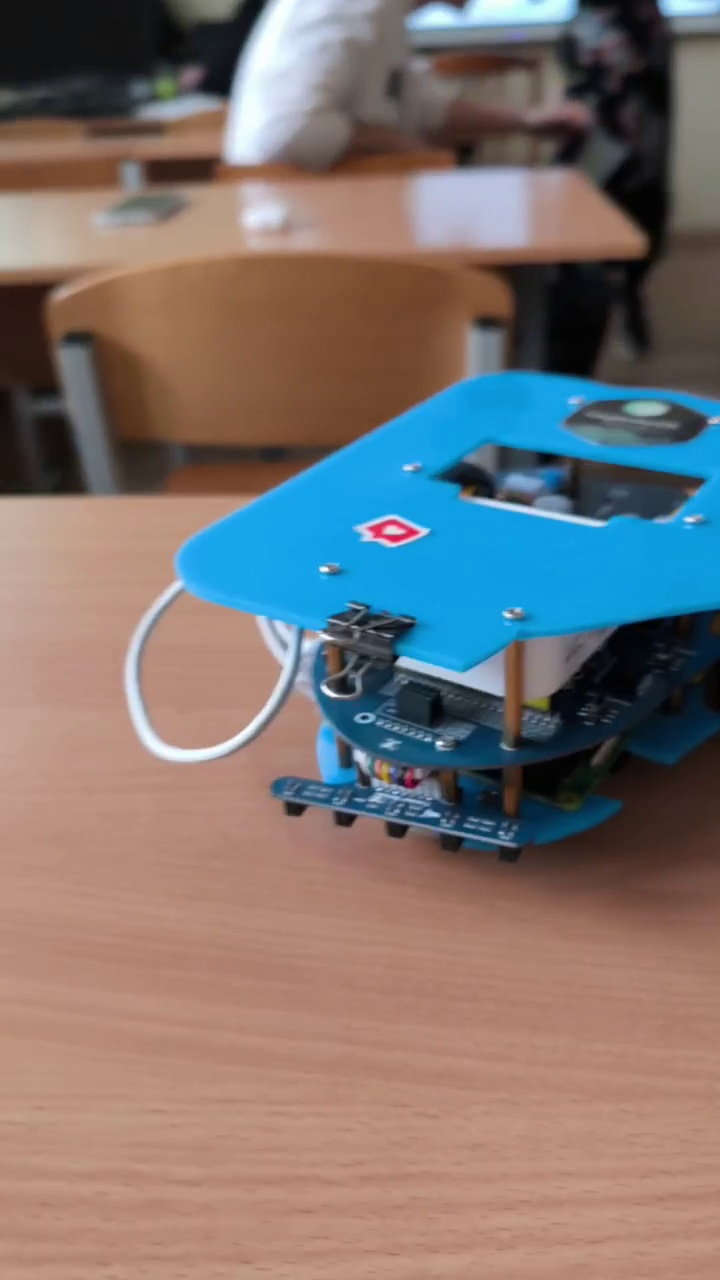robot: (117, 367, 720, 867)
